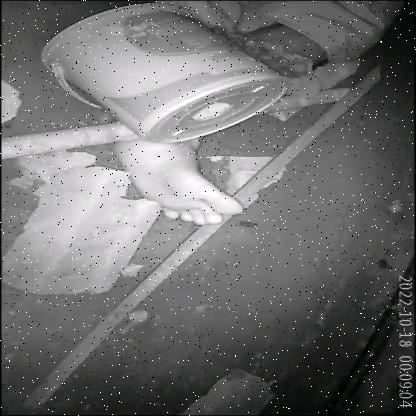leg: (109, 129, 256, 244)
